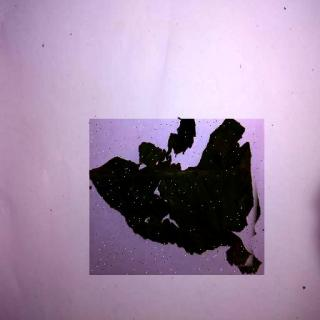Anthracnose: (91, 120, 266, 276)
